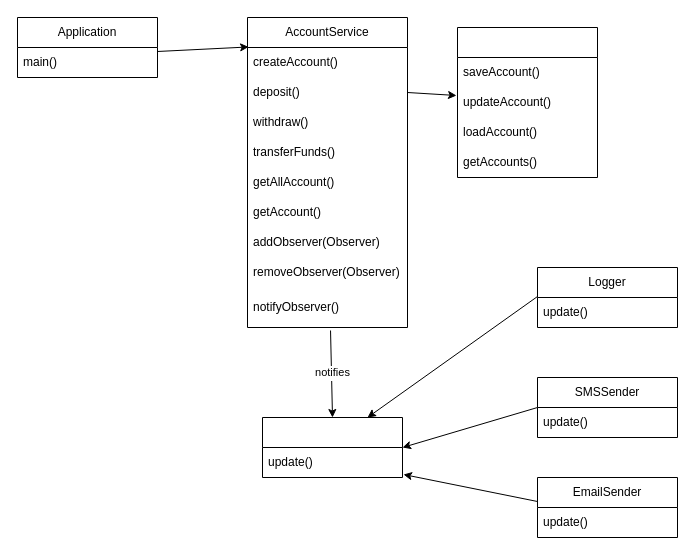
The diagram is 695 pixels wide and 555 high, and some of its shapes have lost their labels. The box of each missing label's shape, as (x1, y1, x2, y2) in pixels:
AccountDAO: (456, 26, 598, 178)
Interface Observer: (262, 416, 402, 478)
